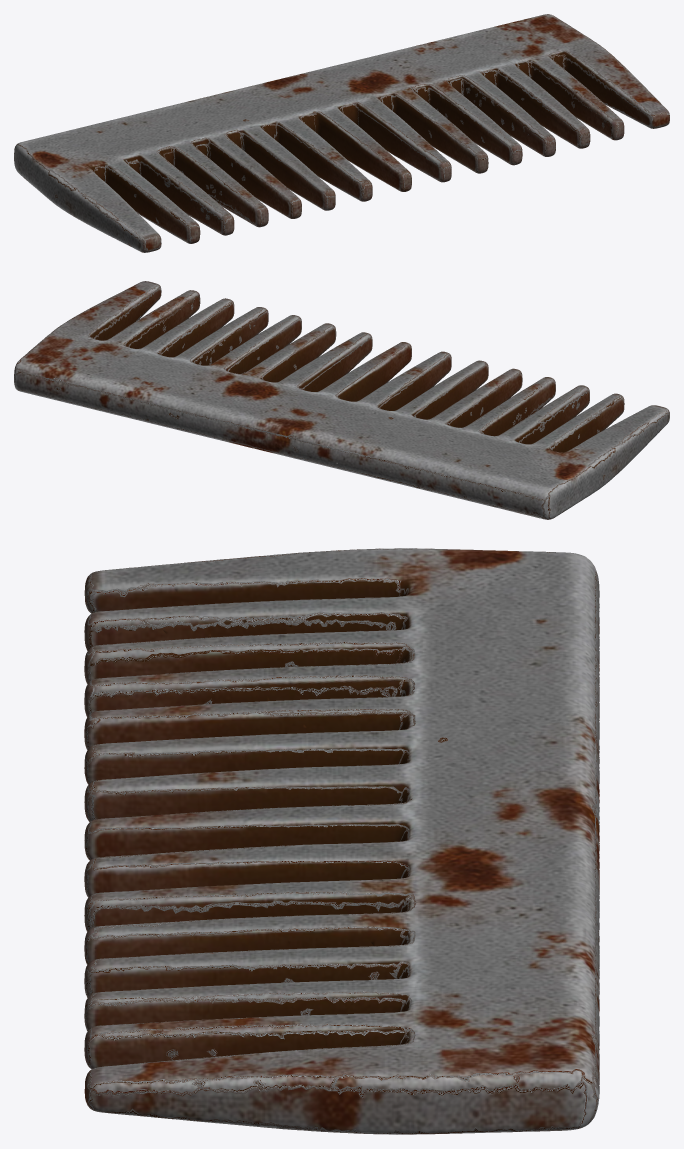
3 renders of one model, top to bottom at view 1: azimuth 30°, elevation 25°; view 2: azimuth 150°, elevation 25°; view 3: azimuth 270°, elevation 25°, orthographic. The views are drawn at different scales.
Bounding box in the file's own units: 1.9 × 0.1019 × 0.7737.
1 material, 1 textured.
